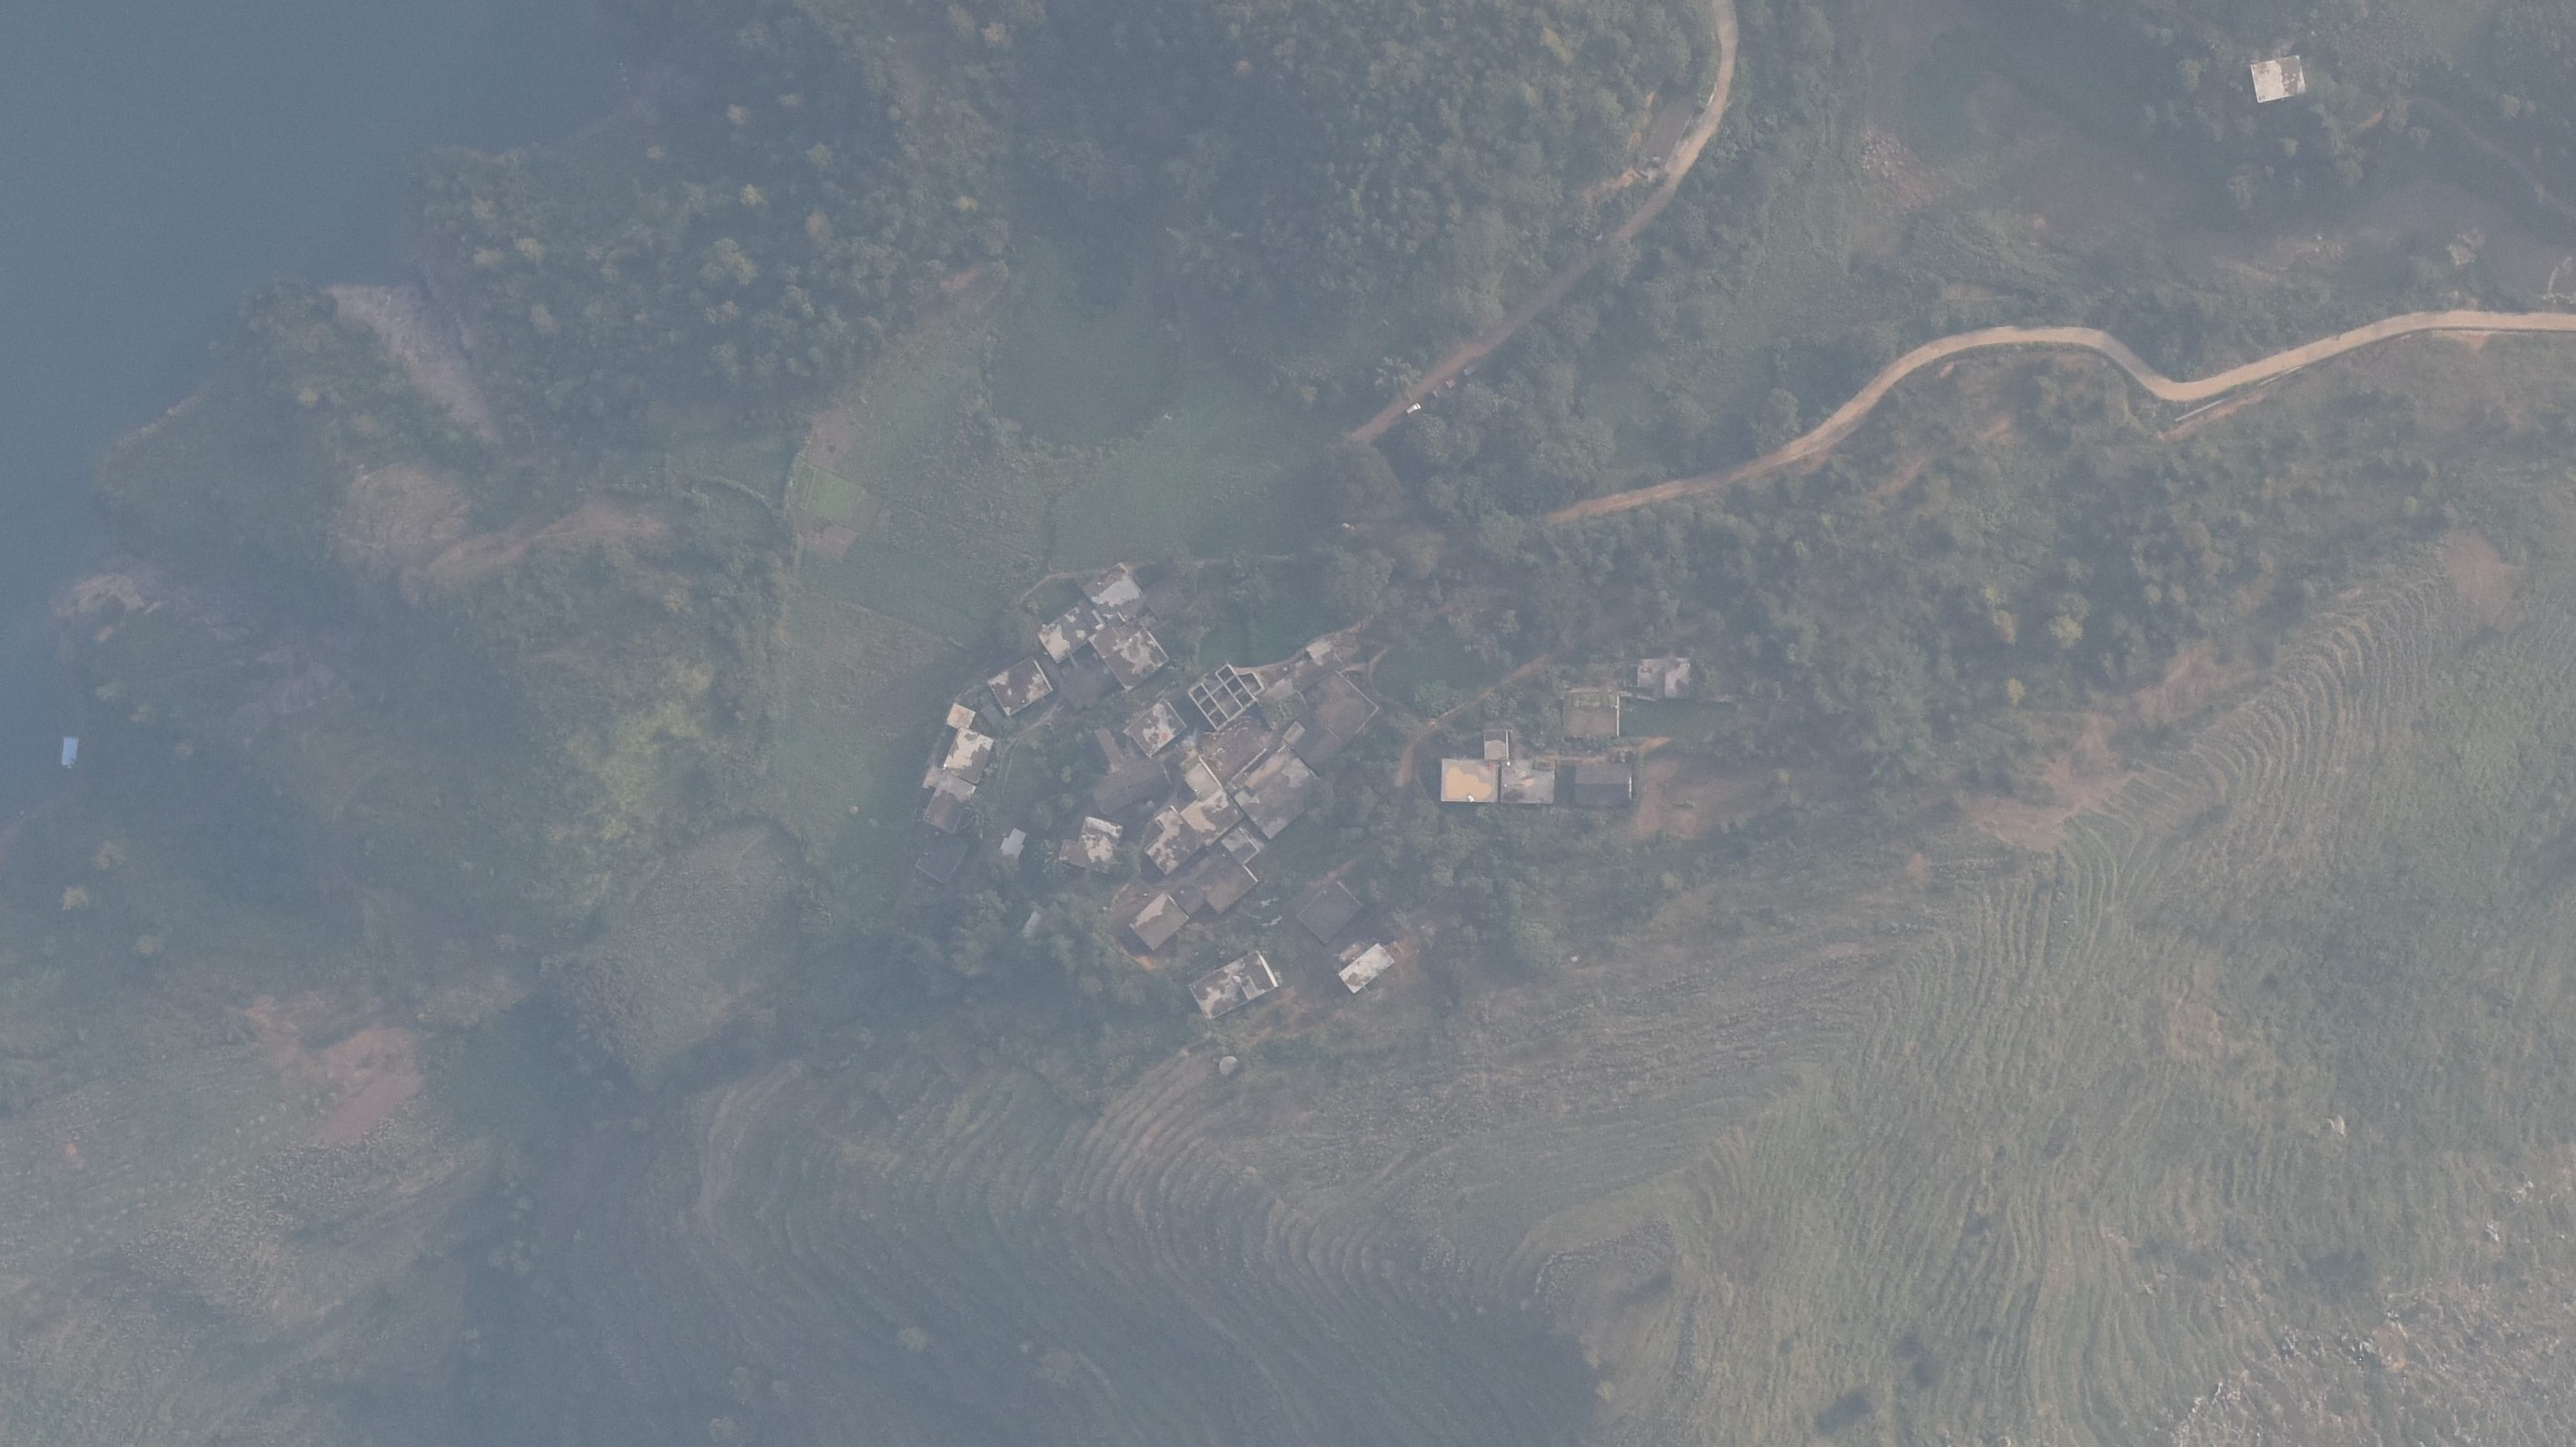building: (1281, 667, 1382, 773), (1231, 761, 1329, 840), (1189, 946, 1279, 1021), (1092, 610, 1168, 695), (1178, 755, 1242, 851), (1088, 757, 1175, 821), (1286, 879, 1362, 946), (1189, 662, 1261, 731), (1191, 853, 1260, 923), (1138, 805, 1203, 876), (989, 653, 1058, 716), (1077, 563, 1148, 624), (1039, 601, 1109, 663), (1058, 815, 1125, 879), (1122, 697, 1191, 757), (1129, 888, 1191, 953), (943, 725, 1003, 787), (1332, 941, 1398, 998), (915, 830, 982, 883), (2249, 51, 2309, 108), (1571, 762, 1637, 810), (1438, 757, 1502, 805), (1562, 690, 1621, 738), (1500, 757, 1555, 807), (922, 784, 975, 833), (920, 764, 977, 803), (1086, 723, 1125, 777), (1665, 655, 1702, 702), (1221, 826, 1261, 865), (1635, 653, 1667, 702), (943, 699, 980, 731), (1177, 881, 1207, 916), (1481, 727, 1511, 761), (998, 828, 1028, 860)
prefabricated-house: (55, 734, 87, 773)
vehicle: (1433, 377, 1460, 400), (1463, 359, 1488, 379), (1403, 402, 1426, 417)
well: (1214, 1054, 1240, 1079)
